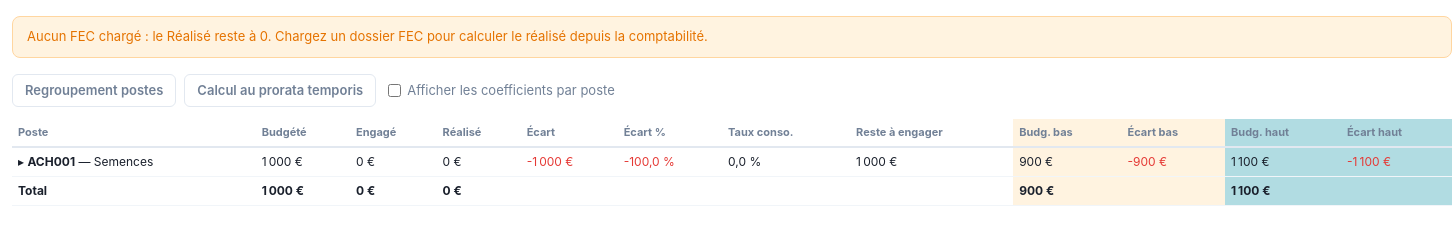
Test case: SuiviEcartScenario › masque les coefficients par poste par défaut, et permet de les afficher via la case à cocher
Step 1. Click the checkbox labelled "Afficher les coefficients par poste" → (395, 90), box 388,84 -> 401,97
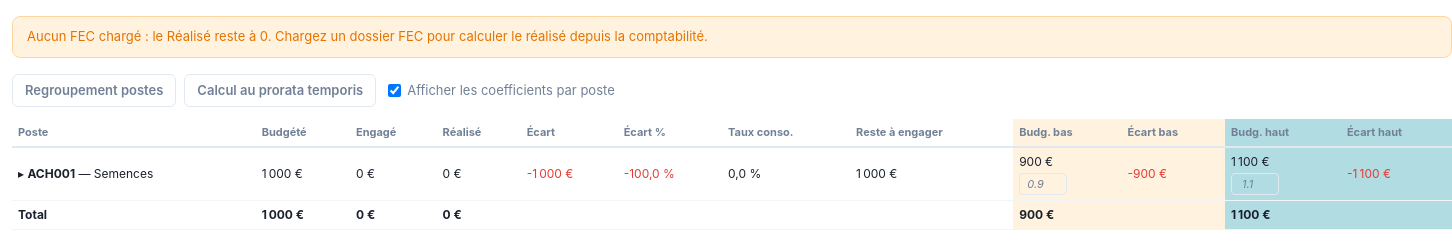
Check: the 1st number field titled "Coefficient hérité du scénario global" is shown, box 1019,172 -> 1067,195
